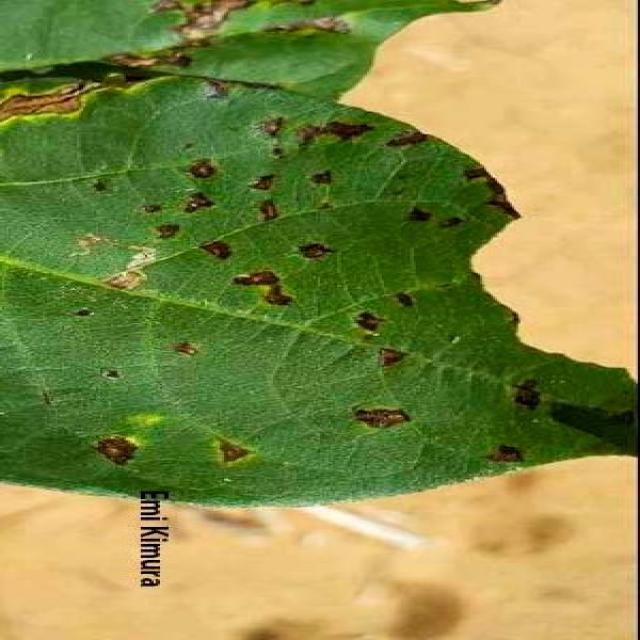Bacterial Blight: (69, 0, 449, 404)
